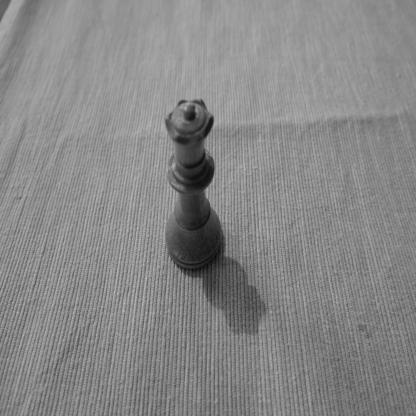white-queen: (164, 96, 222, 272)
